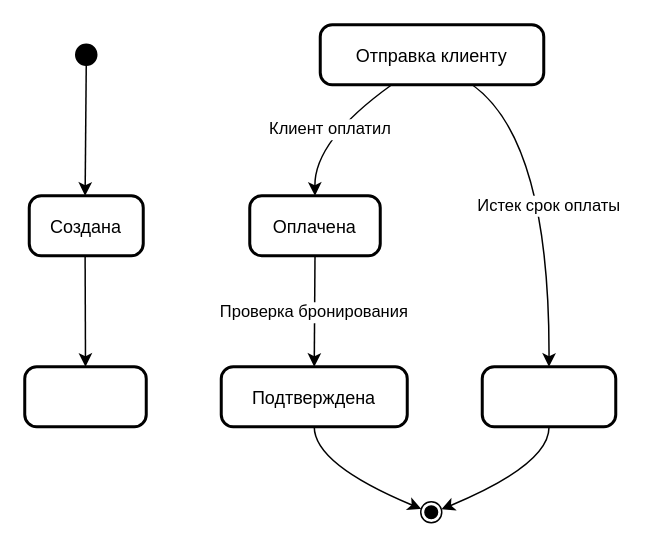
The diagram is 648 pixels wide and 548 high, and some of its shapes have lost their labels. The shapes that lost their labels are listed below. From the top down, each one's centre as x and y in pixels, then its label:
[84,396]: Ожидает
[548,396]: Отменена
